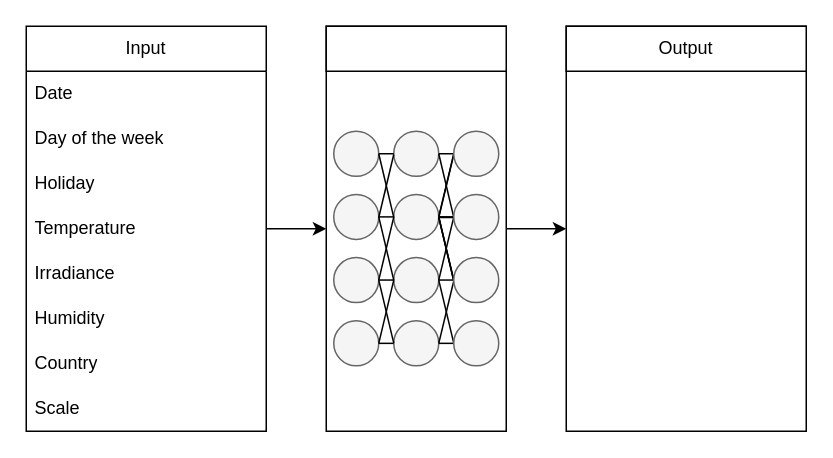
Some shapes in this 833 by 458 pixel diagram are drawn without their labels. Here are the shapes that lost their labels. From the top down, the box of each, then its label:
(325, 25, 506, 71): LSTM Model
(565, 25, 806, 431): Consumption
